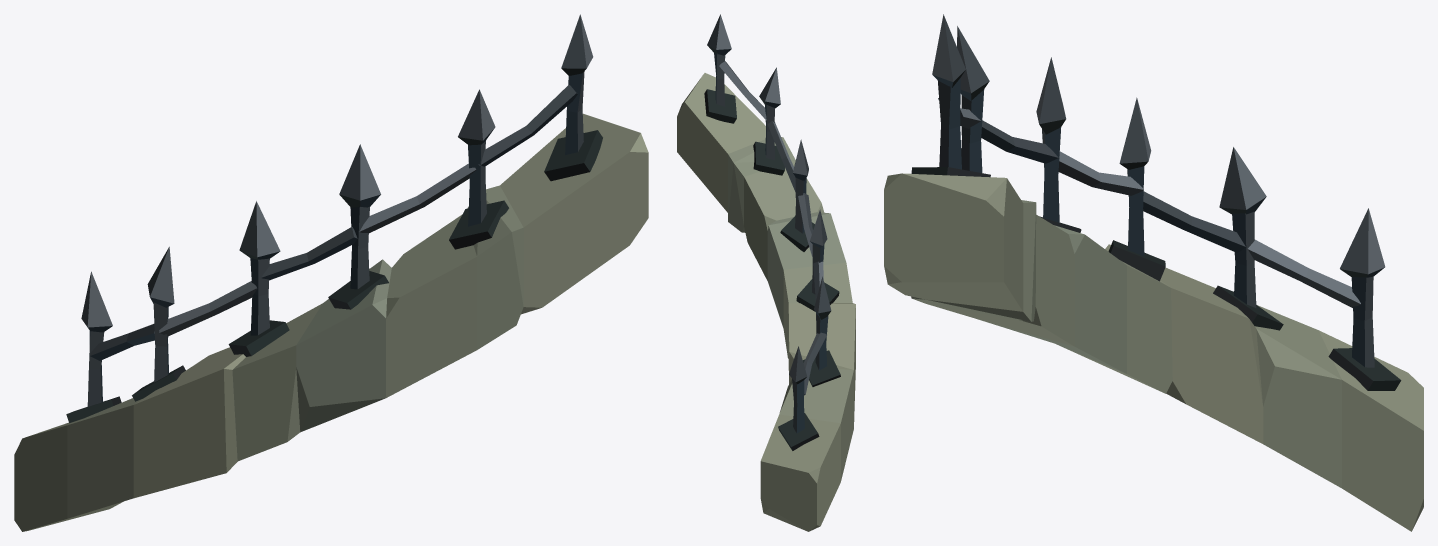
The model's file is ramp_spiral_wide_railing_inside_short_counter_metal_spikes.fbx.
The picture shows the model from 3 angles, left to right: view 1: azimuth 30°, elevation 25°; view 2: azimuth 150°, elevation 25°; view 3: azimuth 270°, elevation 25°; orthographic projection. The views are drawn at different scales.
Visible parts, largest first — view 1: ramp_spiral_wide_railing_inside_short_counter_metal_spikes; view 2: ramp_spiral_wide_railing_inside_short_counter_metal_spikes; view 3: ramp_spiral_wide_railing_inside_short_counter_metal_spikes.
Boxes of the visible parts, box(x1,y1,x2,y2) form: ramp_spiral_wide_railing_inside_short_counter_metal_spikes: box(14, 14, 648, 531); ramp_spiral_wide_railing_inside_short_counter_metal_spikes: box(677, 14, 855, 531); ramp_spiral_wide_railing_inside_short_counter_metal_spikes: box(884, 14, 1423, 531).
Size of the model in its own units: 225 by 312 by 225.
